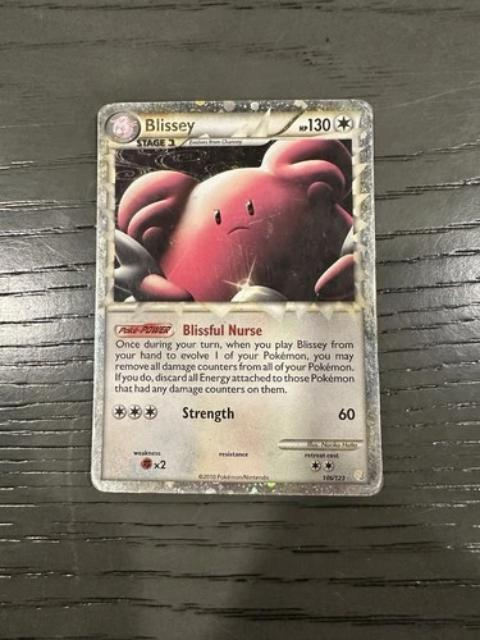Card: (88, 92, 385, 500)
Name: (140, 111, 195, 137)
